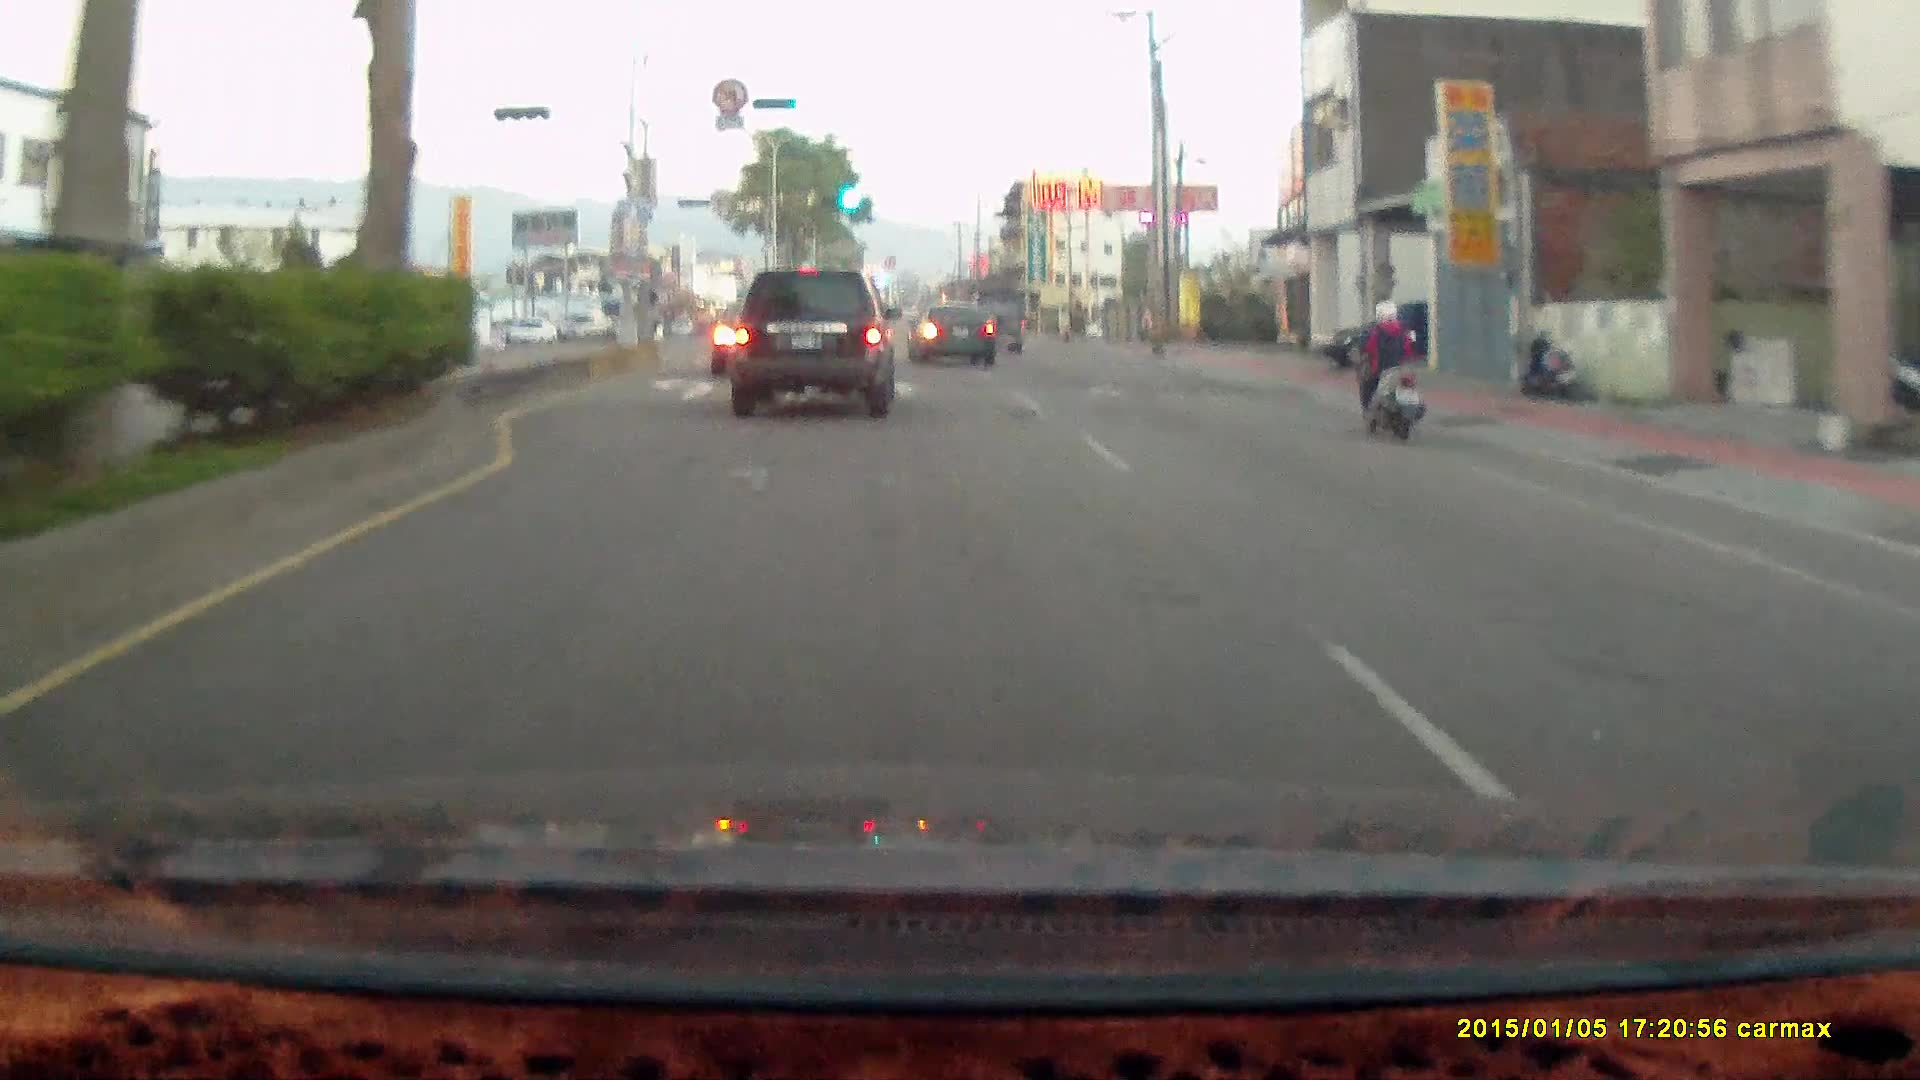rider: (1336, 287, 1441, 451), (1351, 295, 1427, 439)
vehicle: (722, 261, 896, 420), (726, 267, 898, 416), (1311, 294, 1496, 364), (1323, 290, 1438, 366), (909, 302, 1001, 367), (908, 302, 995, 366), (963, 288, 1025, 354), (968, 290, 1028, 357), (558, 310, 607, 340), (507, 316, 557, 344)
